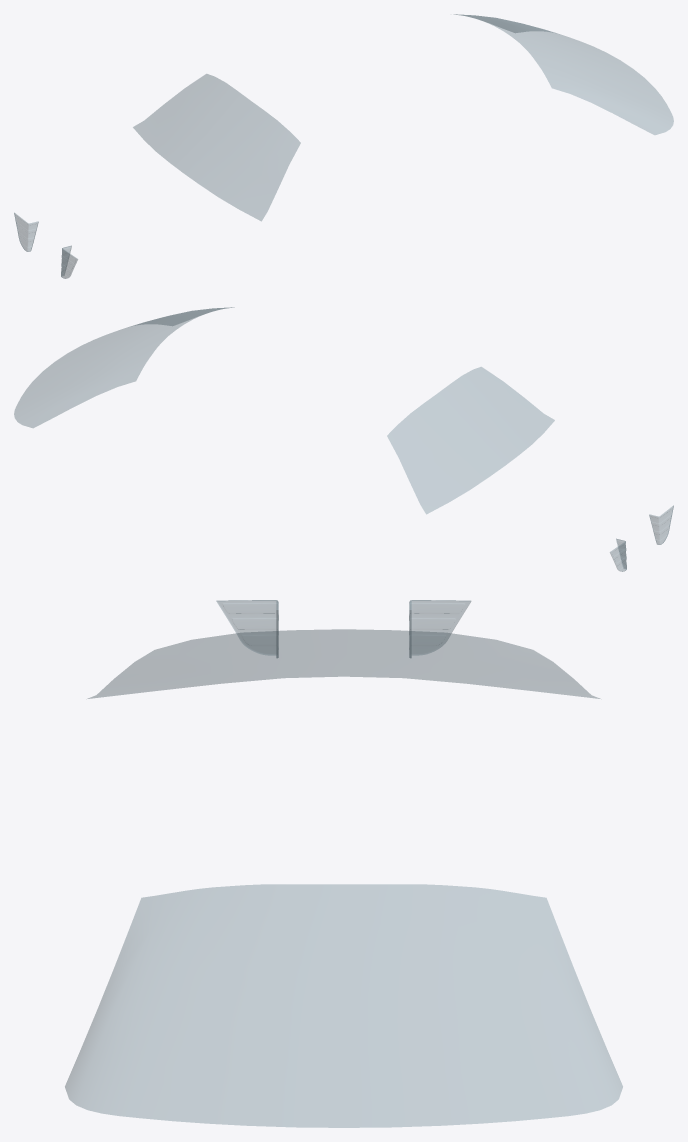
The picture shows the model from 3 angles, top to bottom: view 1: azimuth 30°, elevation 25°; view 2: azimuth 150°, elevation 25°; view 3: azimuth 270°, elevation 25°; orthographic projection. The views are drawn at different scales.
Visible parts, largest first — view 1: SM_FordCrown02_Glass_Int1; view 2: SM_FordCrown02_Glass_Int1; view 3: SM_FordCrown02_Glass_Int1.
Part boxes in pixels (x1,y1,x2,y2): SM_FordCrown02_Glass_Int1: [14, 14, 673, 278]; SM_FordCrown02_Glass_Int1: [14, 307, 673, 571]; SM_FordCrown02_Glass_Int1: [65, 600, 622, 1127].
Bounding box in the file's own units: 3.76 × 0.6915 × 1.54.
